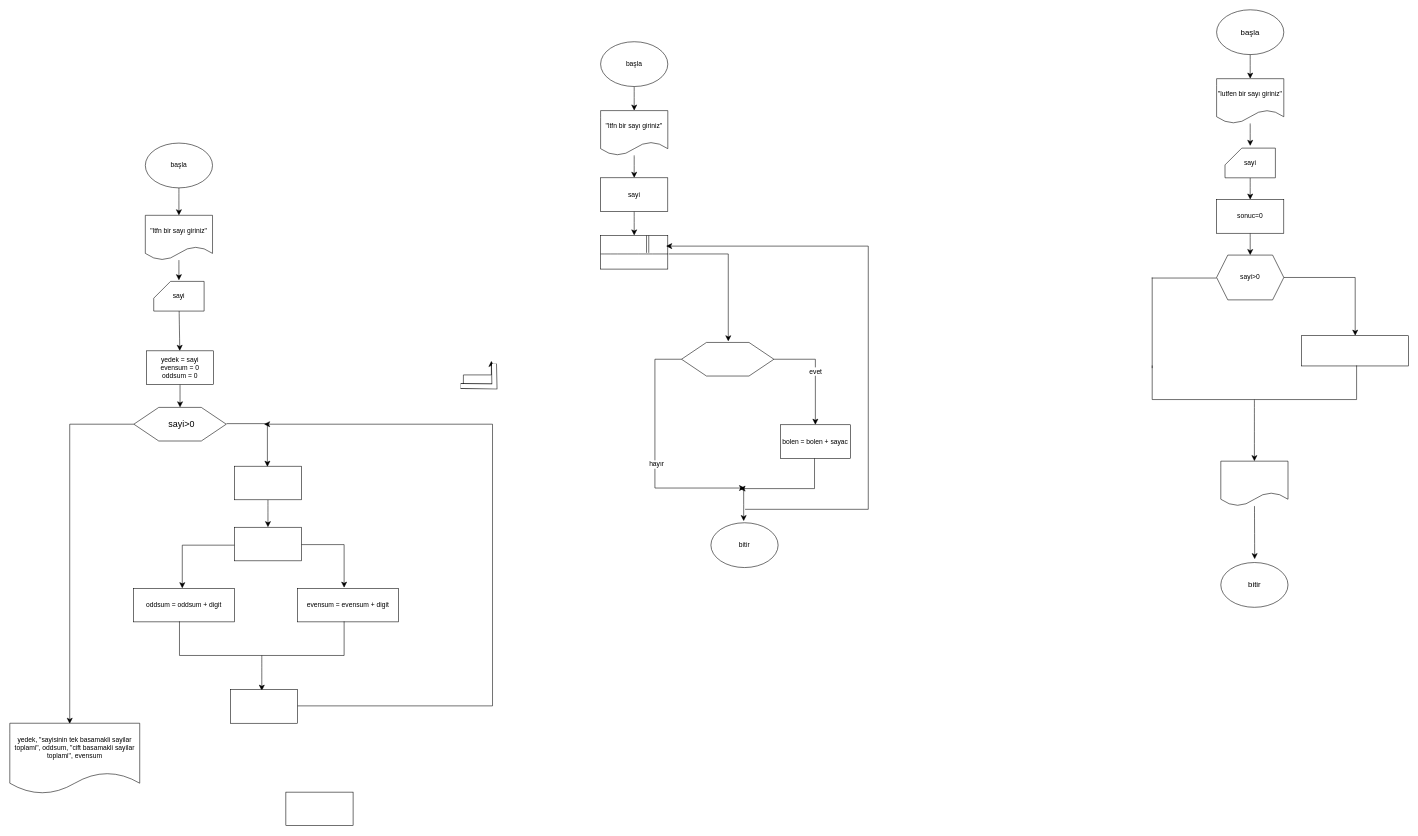
The diagram is 1418 pixels wide and 836 high, and some of its shapes have lost their labels. The shapes that lost their labels are listed below. From the top down, each one's centre as x and y in pixels, then its label:
the point at 634,252: i:=2 1 i<=n DIV 2
the point at 727,359: sayi%sayac=0
the point at 1355,350: sonuc=sonuc*10 sonuc=sonuc+(sayi%10) sayi=sayiDIV10
the point at 268,483: digit = sayi % 10
the point at 1254,483: sonuc
the point at 268,544: digit % 2 = 0
the point at 264,706: sayi=sayi/10
